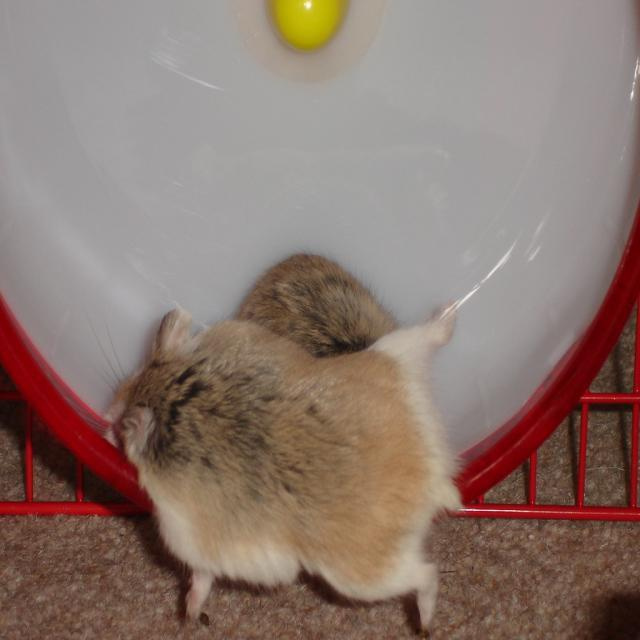rat: (106, 297, 467, 631), (229, 250, 402, 362)
